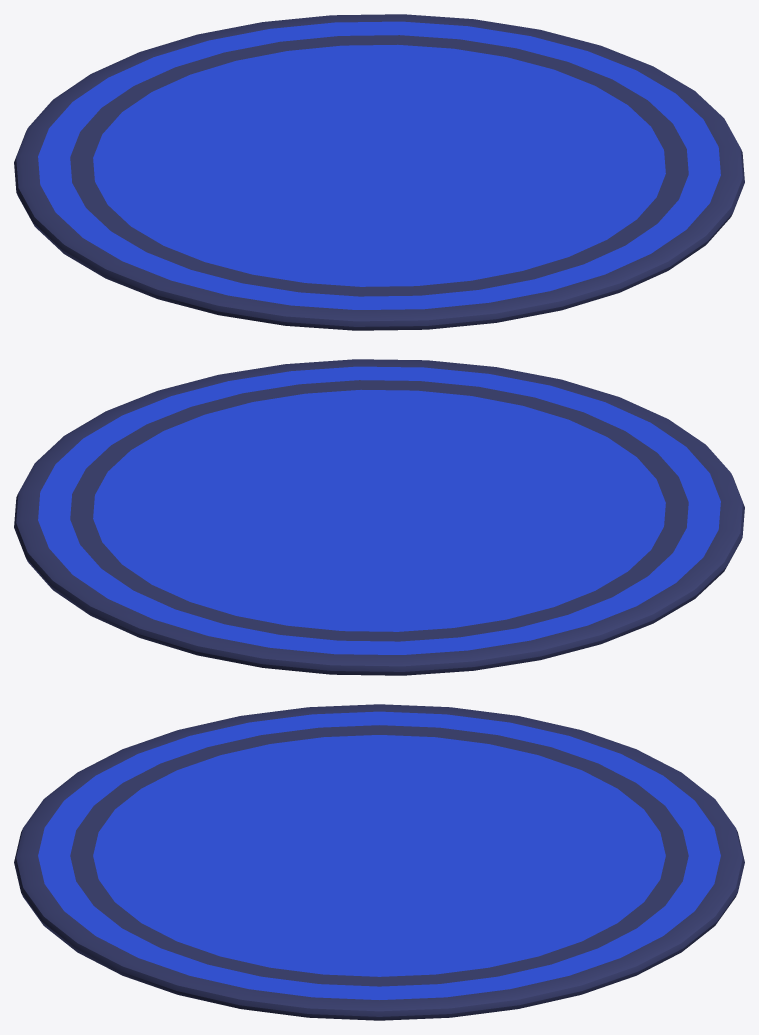
Rendered from tapete.fbx.
The picture shows the model from 3 angles, top to bottom: view 1: azimuth 30°, elevation 25°; view 2: azimuth 150°, elevation 25°; view 3: azimuth 270°, elevation 25°; orthographic projection.
Parts seen in each view (by area): view 1: Circle; view 2: Circle; view 3: Circle.
Part boxes in pixels (x1,y1,x2,y2): Circle: (14,14,744,330); Circle: (14,359,744,675); Circle: (14,704,744,1020).
Bounding box in the file's own units: 149 × 2.97 × 149.
